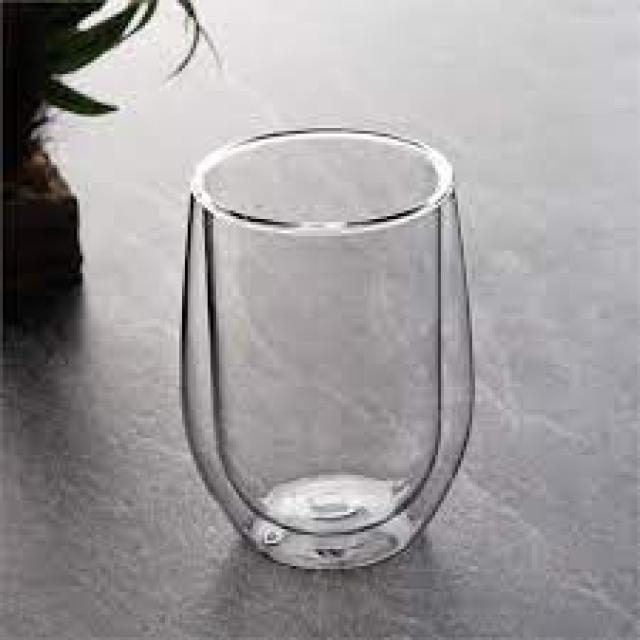Dry Waste: (175, 121, 481, 577)
